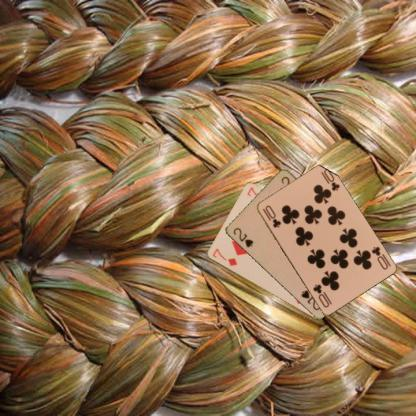10c: (260, 202, 282, 229), (368, 244, 390, 271)
2s: (231, 224, 256, 249)
7d: (209, 245, 238, 268)
